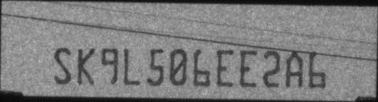0: (169, 48, 188, 85)
2: (262, 50, 281, 87)
5: (147, 47, 164, 86)
6: (193, 48, 211, 87), (308, 51, 326, 88)
9: (101, 47, 119, 84)
A: (285, 50, 303, 88)
E: (239, 48, 258, 88), (216, 48, 234, 87)
K: (77, 47, 95, 85)
L: (123, 47, 142, 86)
S: (54, 47, 72, 84)
